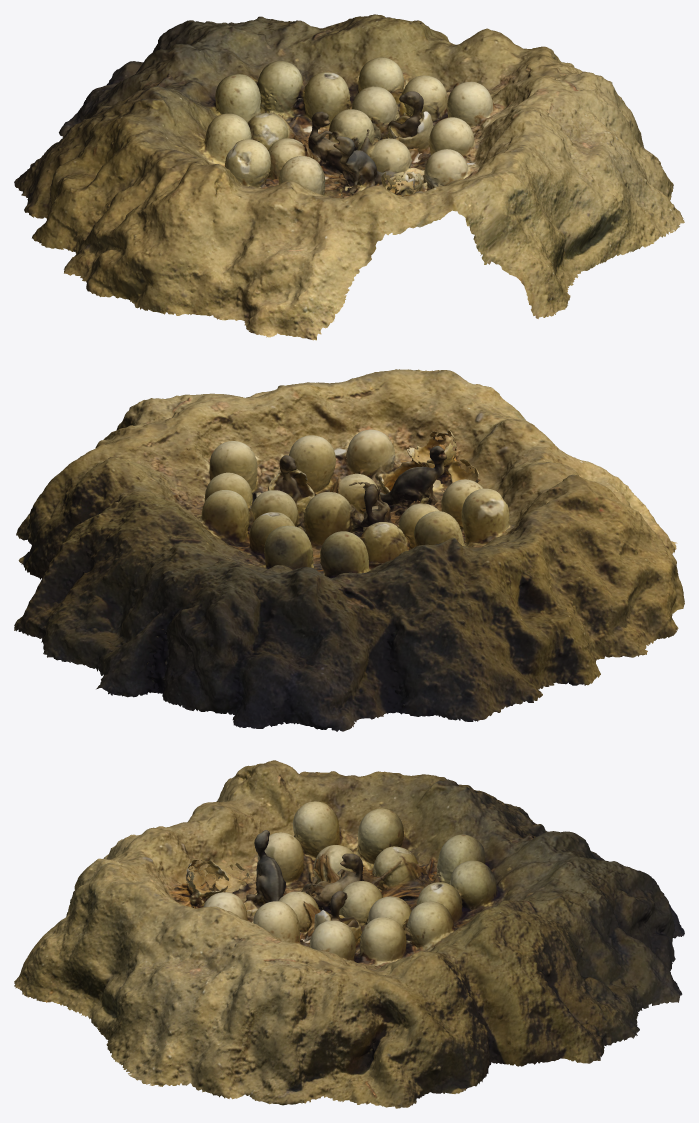
3 renders of one model, top to bottom at view 1: azimuth 30°, elevation 25°; view 2: azimuth 150°, elevation 25°; view 3: azimuth 270°, elevation 25°, orthographic. The views are drawn at different scales.
Parts seen in each view (by area): view 1: Object_2, Object_3, Object_4, Object_5; view 2: Object_2, Object_3, Object_4, Object_5; view 3: Object_2, Object_3, Object_4, Object_5.
Part boxes in pixels (box(x1,y1,x2,y2)): Object_2: box(18, 14, 684, 340); Object_3: box(16, 16, 661, 330); Object_4: box(14, 24, 681, 337); Object_5: box(89, 18, 620, 235); Object_2: box(14, 369, 684, 730); Object_3: box(16, 391, 644, 718); Object_4: box(15, 390, 684, 731); Object_5: box(59, 396, 641, 626); Object_2: box(14, 760, 657, 1092); Object_3: box(67, 771, 673, 1105); Object_4: box(15, 794, 684, 1108); Object_5: box(72, 777, 642, 1013).
Bounding box in the file's own units: 8.68 × 1.68 × 8.71.
Materials: 1 (1 with a texture image).
